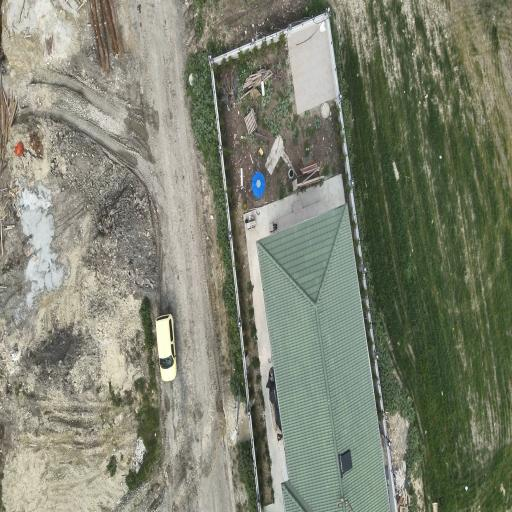car: (156, 313, 175, 380)
